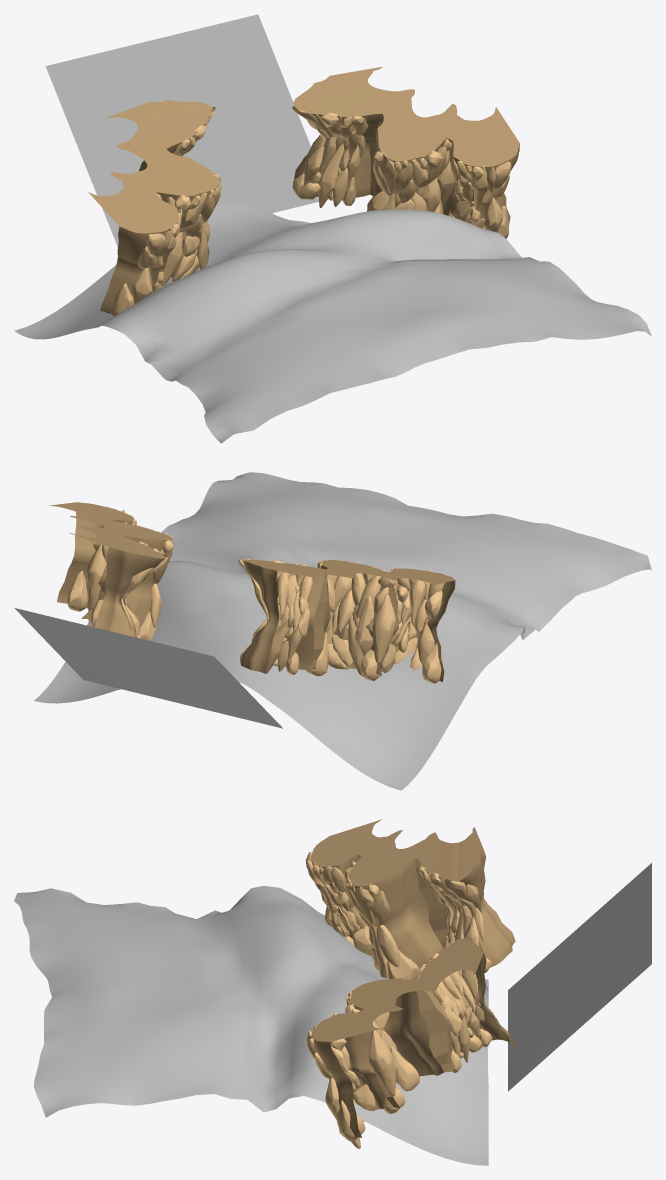
Rendered from Arcana_Scene.fbx.
The picture shows the model from 3 angles, top to bottom: view 1: azimuth 30°, elevation 25°; view 2: azimuth 150°, elevation 25°; view 3: azimuth 270°, elevation 25°; orthographic projection. The views are drawn at different scales.
Parts seen in each view (by area): view 1: PM3D_Terrain3D1, pPlane9, Cliff (×2), PM3D_Sphere3D27 (×2); view 2: PM3D_Terrain3D1, PM3D_Sphere3D27 (×2), Cliff (×2), pPlane9; view 3: PM3D_Terrain3D1, Cliff (×2), PM3D_Sphere3D27 (×2), pPlane9.
Part boxes in pixels (x1,y1,x2,y2): PM3D_Terrain3D1: [14, 204, 651, 443]; pPlane9: [45, 14, 328, 246]; Cliff (×2): [88, 66, 519, 313]; PM3D_Sphere3D27 (×2): [111, 106, 511, 316]; PM3D_Terrain3D1: [34, 472, 651, 790]; PM3D_Sphere3D27 (×2): [67, 506, 445, 683]; Cliff (×2): [49, 502, 455, 681]; pPlane9: [14, 608, 282, 728]; PM3D_Terrain3D1: [14, 886, 488, 1165]; Cliff (×2): [311, 819, 515, 1137]; PM3D_Sphere3D27 (×2): [306, 852, 492, 1148]; pPlane9: [508, 863, 651, 1091].
Bounding box in the file's own units: 49.66 × 20.34 × 60.53.
